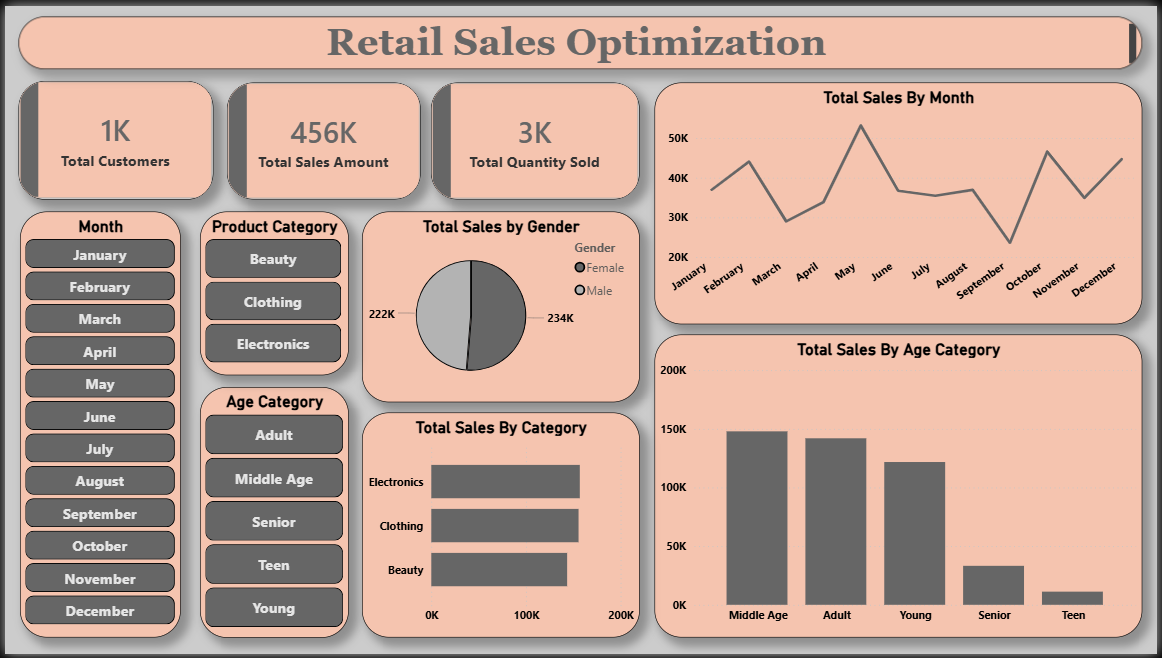

The page's visual inventory and layout, read from the dashboard file:
{"tool":"powerbi","page":{"name":"Page 1","canvas":[1280,720],"ordinal":0},"visuals":[{"type":"cardVisual","fields":{"Data":["CountNonNull(sales_data.Transaction ID)"]},"box":[15,83.3,216.7,131.7],"z":0},{"type":"cardVisual","fields":{"Data":["Sum(sales_data.Total Amount)"]},"box":[246.7,85,215,130],"z":1000},{"type":"cardVisual","fields":{"Data":["Sum(sales_data.Quantity)"]},"box":[473.3,85,231.7,130],"z":2000},{"type":"textbox","box":[15,11.7,1248.3,58.3],"z":3000},{"type":"pieChart","fields":{"Category":["sales_data.Gender"],"Y":["Sum(sales_data.Total Amount)"]},"box":[396.7,228.3,308.3,211.7],"z":4000},{"type":"advancedSlicerVisual","fields":{"Values":["sales_data.Age Category"]},"box":[216.7,423.3,165,278.3],"z":5000},{"type":"advancedSlicerVisual","fields":{"Values":["sales_data.Date.Variation.Date Hierarchy.Month"]},"box":[16.7,228.3,178.3,473.3],"z":6000},{"type":"lineChart","title":"Total Sales By Month","fields":{"Category":["sales_data.Date.Variation.Date Hierarchy.Month"],"Y":["Sum(sales_data.Total Amount)"]},"box":[721.7,85,541.7,268.3],"z":7000},{"type":"columnChart","title":"Total Sales By Age Category","fields":{"Category":["sales_data.Age Category"],"Y":["Sum(sales_data.Total Amount)"]},"box":[721.7,365,541.7,336.7],"z":8000},{"type":"barChart","title":"Total Sales By Category","fields":{"Category":["sales_data.Product Category"],"Y":["Sum(sales_data.Total Amount)"]},"box":[396.7,451.7,308.3,250],"z":9000},{"type":"advancedSlicerVisual","fields":{"Values":["sales_data.Product Category"]},"box":[216.7,228.3,165,181.7],"z":10000}]}

Visuals, with their boxes in screenshot pixels (x1, y1, x2, y2), scaled from the page's 1280x720 canvas onto the 1162x658 screenshot:
cardVisual - CountNonNull(sales_data.Transaction ID): [14,76,210,196]
cardVisual - Sum(sales_data.Total Amount): [224,78,419,196]
cardVisual - Sum(sales_data.Quantity): [430,78,640,196]
textbox: [14,11,1147,64]
pieChart - sales_data.Gender x Sum(sales_data.Total Amount): [360,209,640,402]
advancedSlicerVisual - sales_data.Age Category: [197,387,347,641]
advancedSlicerVisual - sales_data.Date.Variation.Date Hierarchy.Month: [15,209,177,641]
"Total Sales By Month" lineChart: [655,78,1147,323]
"Total Sales By Age Category" columnChart: [655,334,1147,641]
"Total Sales By Category" barChart: [360,413,640,641]
advancedSlicerVisual - sales_data.Product Category: [197,209,347,375]
